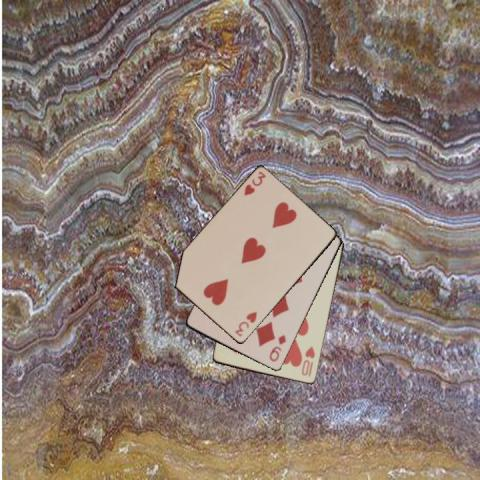10h: (298, 343, 316, 378)
3h: (232, 309, 259, 338), (241, 169, 267, 197)
9d: (266, 332, 287, 363)
